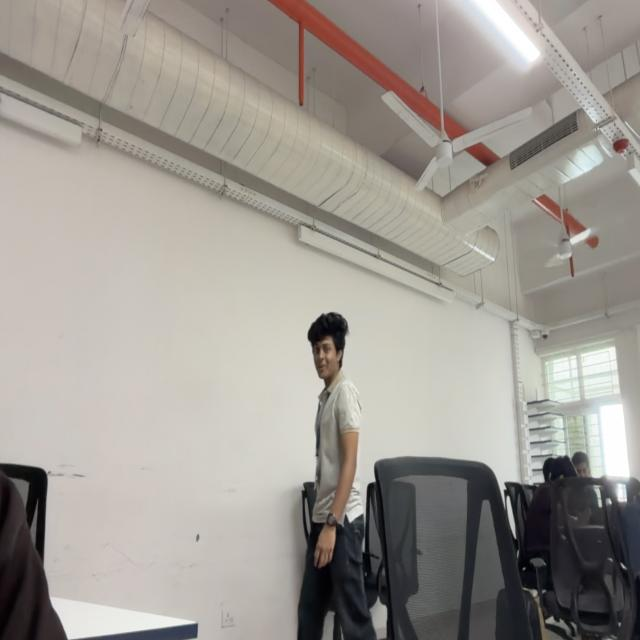kshitij: (307, 310, 347, 382)
